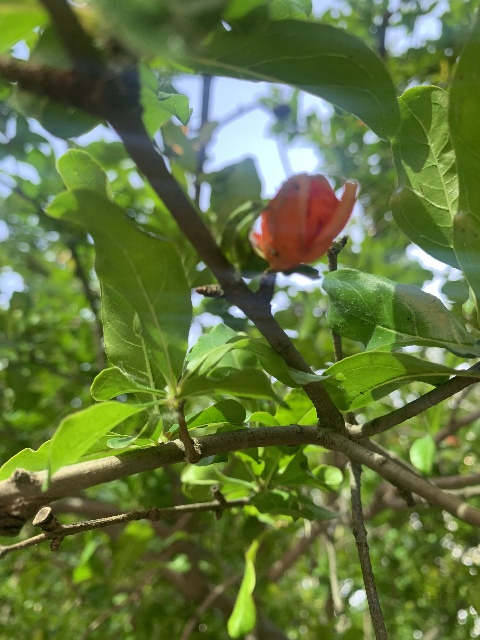flower: (253, 174, 359, 273)
